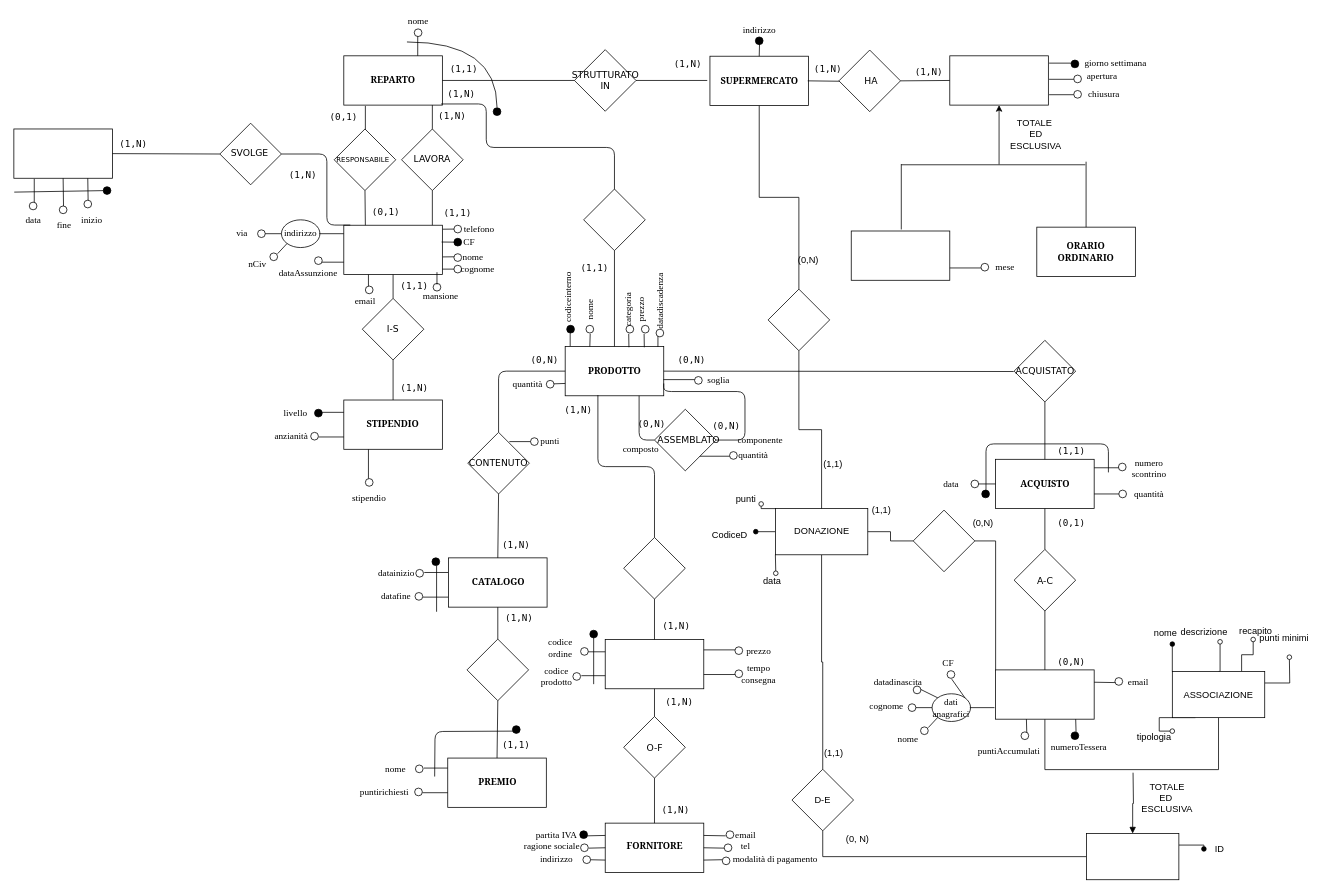
Image size: 1325x893. Some labels were removed from this diagram. Here are the shapes that lost their labels. From the top down, the centre of each, then its label:
pixel 998 80: ORARIO
pixel 62 153: TURNO
pixel 614 219: SI TROVA
pixel 392 249: IMPIEGATO
pixel 900 255: ORARIO STRAORDINARIO
pixel 798 319: S-D
pixel 943 540: D-C
pixel 654 568: RIFORNIMENTO
pixel 497 669: C-P
pixel 654 664: ORDINE
pixel 1044 694: CLIENTE
pixel 1132 856: ENTITà
